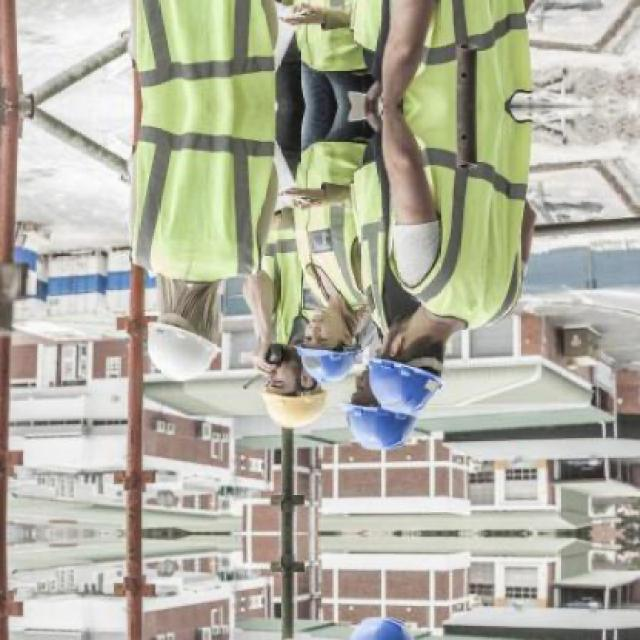con casco: (100, 268, 230, 387), (299, 376, 436, 476), (354, 324, 471, 420), (274, 302, 350, 379), (235, 362, 317, 433)
